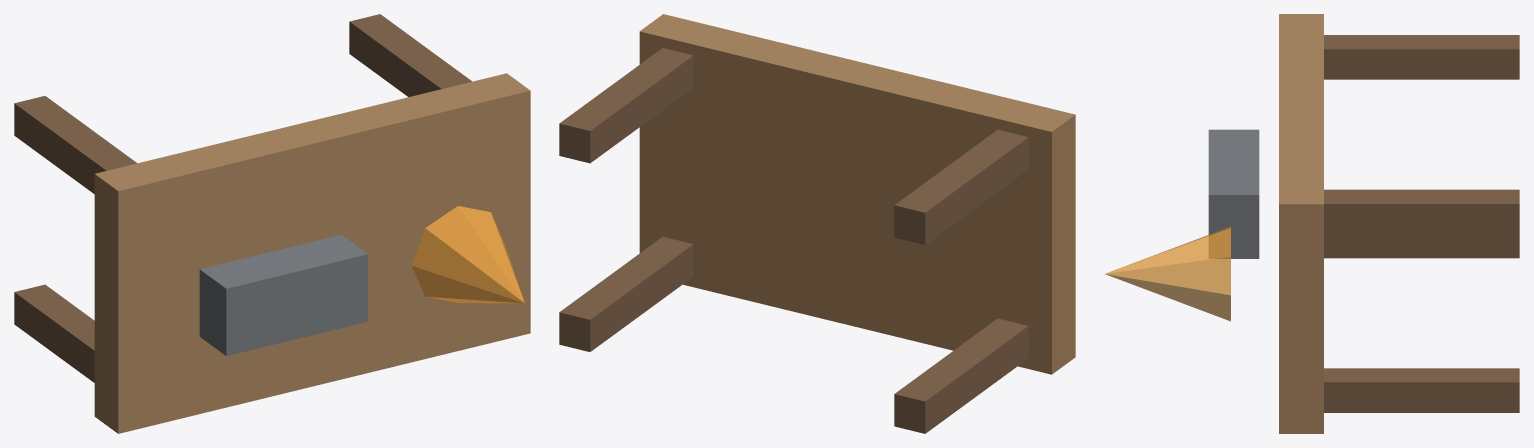
Rendered from 02_blacksmith_station.glb.
3 renders of one model, left to right at view 1: azimuth 30°, elevation 25°; view 2: azimuth 150°, elevation 25°; view 3: azimuth 270°, elevation 25°, orthographic. The views are drawn at different scales.
Visible parts, largest first — view 1: table_top, mini_anvil, forge_flame, leg_3, leg_4, leg_1; view 2: table_top, leg_1, leg_2, leg_4, leg_3; view 3: table_top, leg_4, leg_2, leg_3, mini_anvil, forge_flame, leg_1.
Part boxes in pixels (left/top/right/bottom): table_top: left=94, top=73, right=530, bottom=433; mini_anvil: left=199, top=234, right=367, bottom=356; forge_flame: left=411, top=206, right=524, bottom=303; leg_3: left=14, top=96, right=136, bottom=193; leg_4: left=349, top=14, right=471, bottom=96; leg_1: left=14, top=284, right=94, bottom=382; table_top: left=639, top=14, right=1075, bottom=374; leg_1: left=894, top=318, right=1028, bottom=433; leg_2: left=559, top=236, right=693, bottom=351; leg_4: left=559, top=48, right=693, bottom=163; leg_3: left=894, top=129, right=1028, bottom=244; table_top: left=1279, top=14, right=1323, bottom=433; leg_4: left=1324, top=189, right=1519, bottom=234; leg_2: left=1324, top=368, right=1519, bottom=412; leg_3: left=1324, top=35, right=1519, bottom=79; mini_anvil: left=1208, top=129, right=1259, bottom=258; forge_flame: left=1105, top=226, right=1230, bottom=321; leg_1: left=1324, top=234, right=1519, bottom=258.
Bounding box in the file's own units: 1.6 × 0.9 × 1.48.
